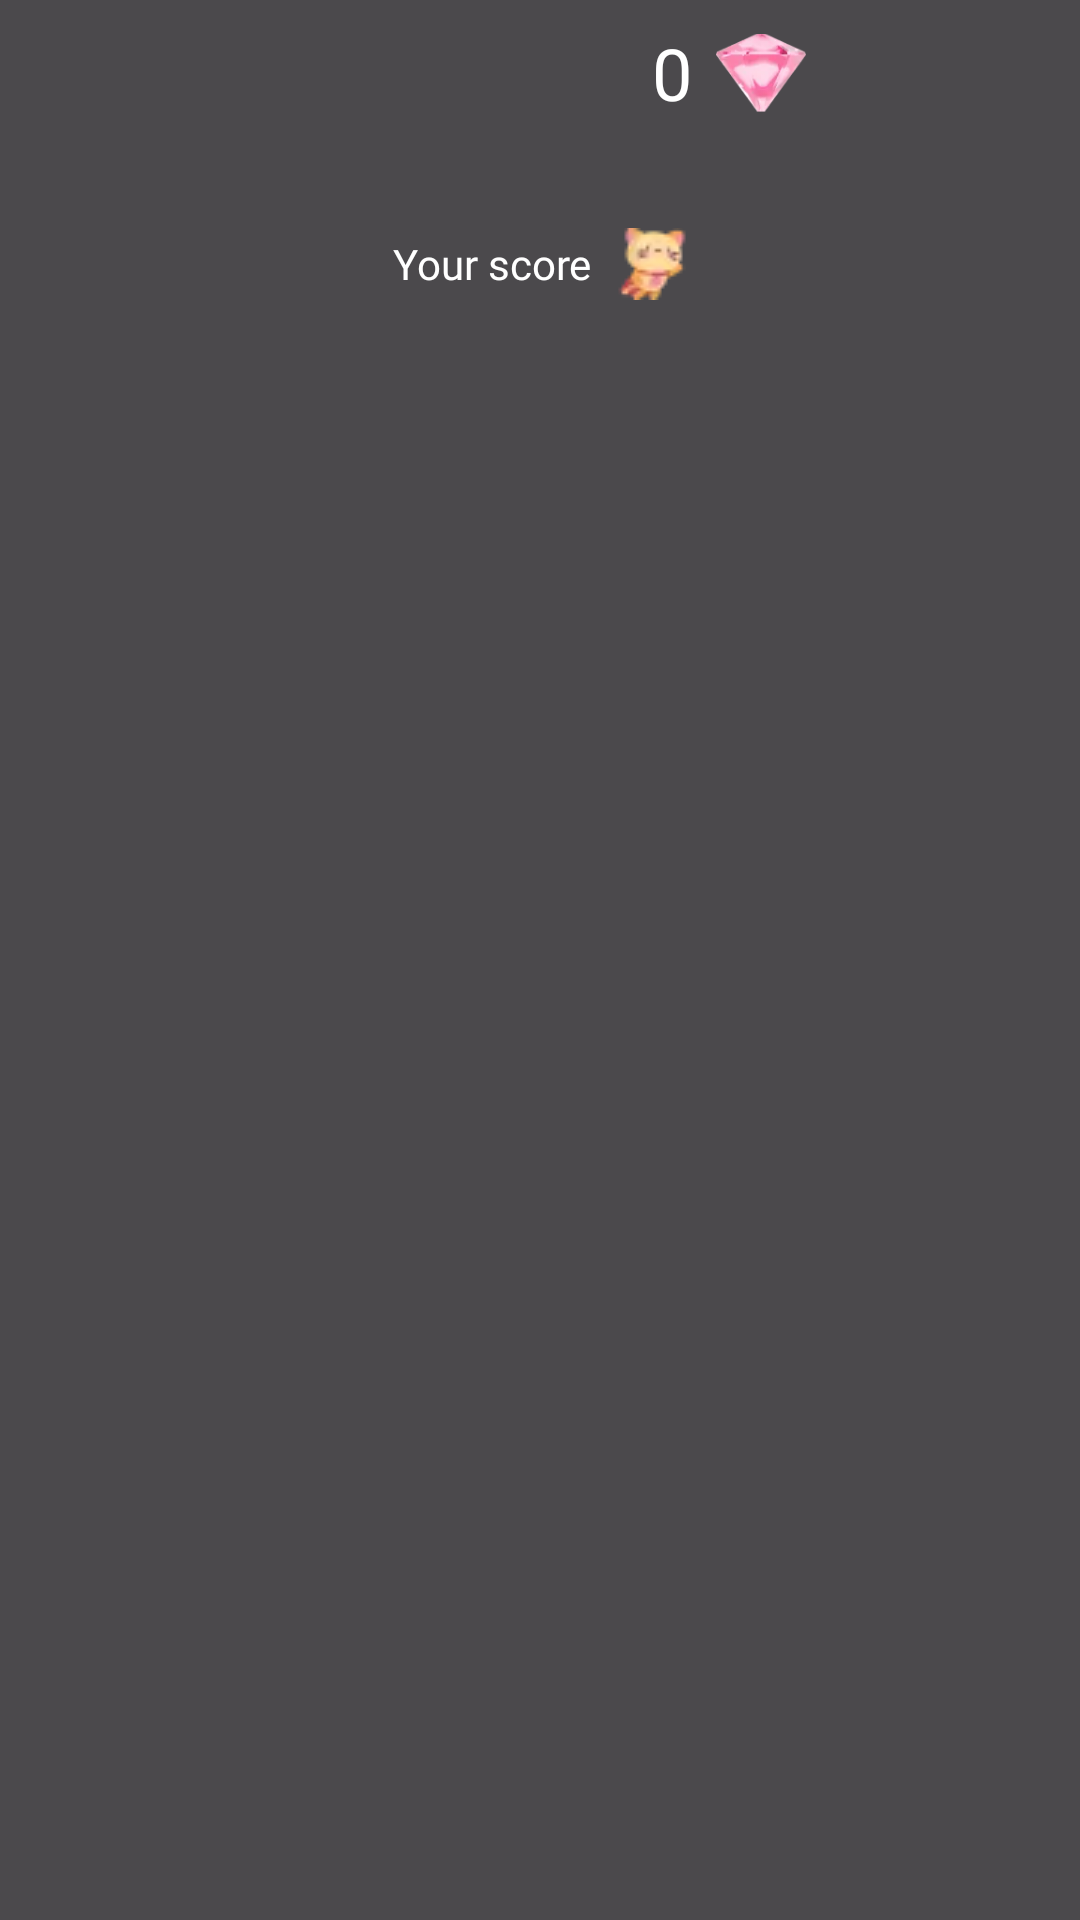

Screen size 1080x1920. Icon name, then its box in pixels as [left=x1, top=y1, right=x2, bottom=y2]:
diamond: [left=716, top=34, right=806, bottom=112]
